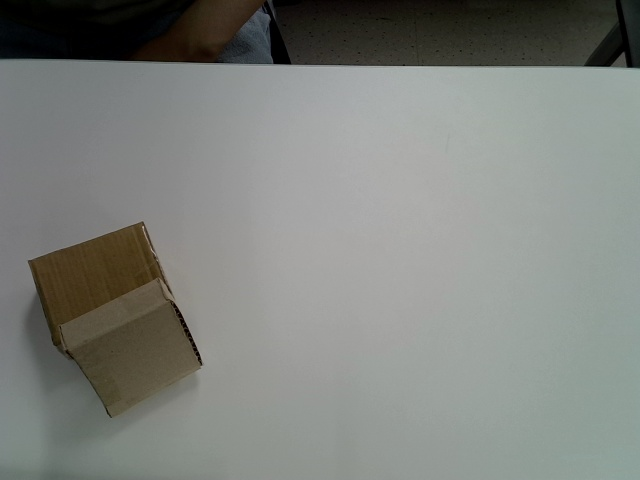normal: (59, 277, 204, 418), (28, 220, 174, 356)
